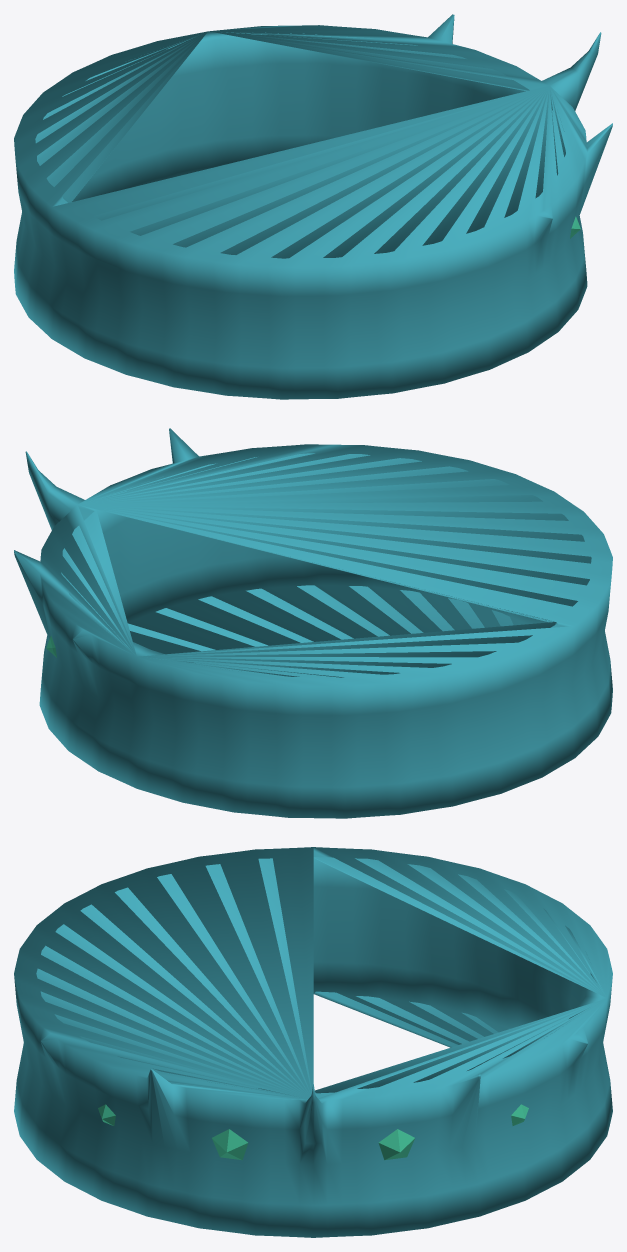
Rendered from icecrown.fbx.
3 views of the same model, one above another, from view 1: azimuth 30°, elevation 25°; view 2: azimuth 150°, elevation 25°; view 3: azimuth 270°, elevation 25° (orthographic). The views are drawn at different scales.
Parts seen in each view (by area): view 1: Crown; view 2: Crown; view 3: Crown, Jewel.001, Jewel.002.
Part boxes in pixels (<box>): Crown: <box>14,14,612,399</box>; Crown: <box>14,428,612,818</box>; Crown: <box>14,847,612,1237</box>; Jewel.001: <box>378,1129,414,1160</box>; Jewel.002: <box>212,1129,248,1160</box>.
Bounding box in the file's own units: 216 × 64.86 × 195.
